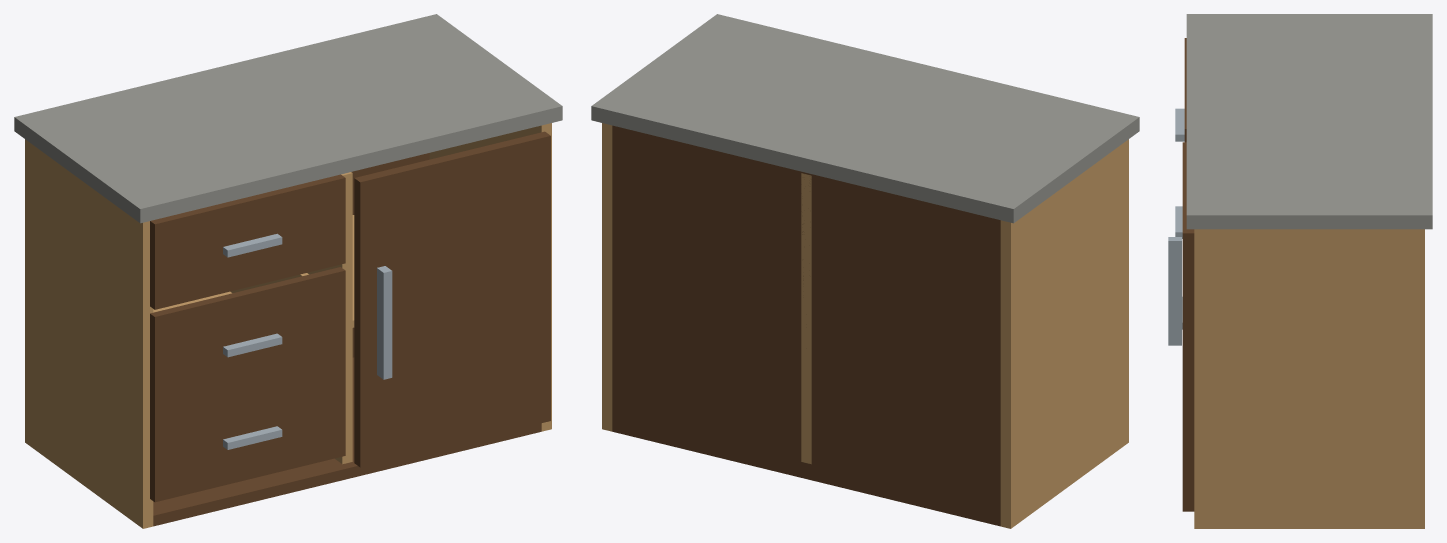
File: GI_Counter_Kitchen_01.glb
3 views of the same model, side by side, from view 1: azimuth 30°, elevation 25°; view 2: azimuth 150°, elevation 25°; view 3: azimuth 270°, elevation 25° (orthographic). The views are drawn at different scales.
Visible parts, largest first — view 1: GI_Counter_Kitchen_01, Door, Drawer2, Drawer1, Drawer3; view 2: GI_Counter_Kitchen_01; view 3: GI_Counter_Kitchen_01, Door, Drawer1.
Part boxes in pixels (x1,y1,x2,y2): GI_Counter_Kitchen_01: (14, 14, 562, 528); Door: (354, 131, 550, 467); Drawer2: (150, 267, 345, 416); Drawer1: (150, 174, 345, 309); Drawer3: (150, 370, 345, 502); GI_Counter_Kitchen_01: (591, 14, 1139, 528); GI_Counter_Kitchen_01: (1186, 14, 1432, 528); Door: (1168, 142, 1194, 511); Drawer1: (1175, 38, 1186, 142).
Bounding box in the file's own units: 1.24 × 0.91 × 0.6875.
Materials: 1 (1 with a texture image).
